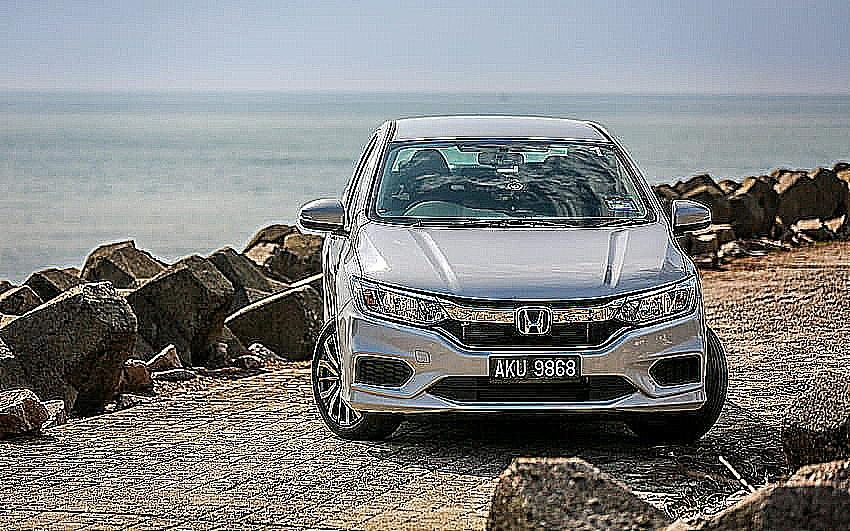Car hood: (355, 217, 689, 303)
Front bumper: (336, 300, 711, 416)
Headlight - -L-: (612, 275, 703, 333)
Headlight - -R-: (349, 273, 450, 336)
Side mirror - -L-: (665, 198, 712, 237)
Side mirror - -R-: (296, 197, 357, 240)
